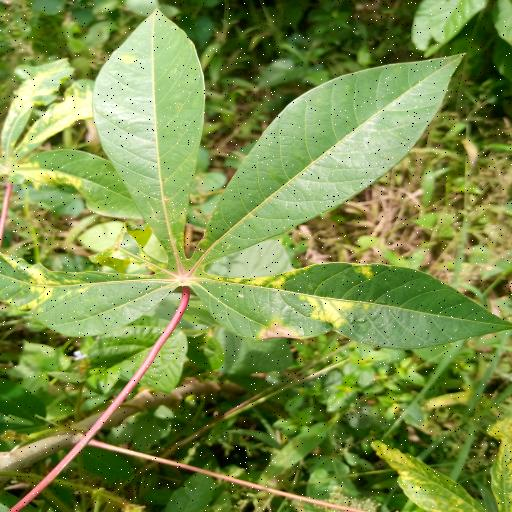Cassava_Mosaic: (0, 9, 512, 352)
